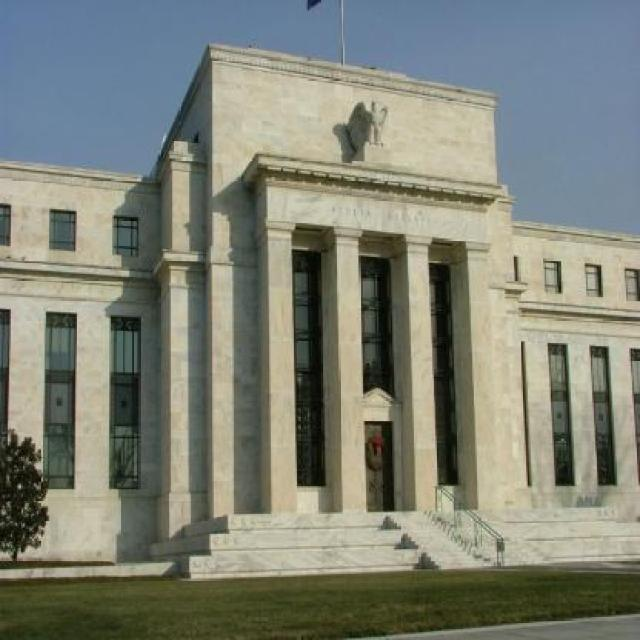stair: (388, 512, 492, 570)
